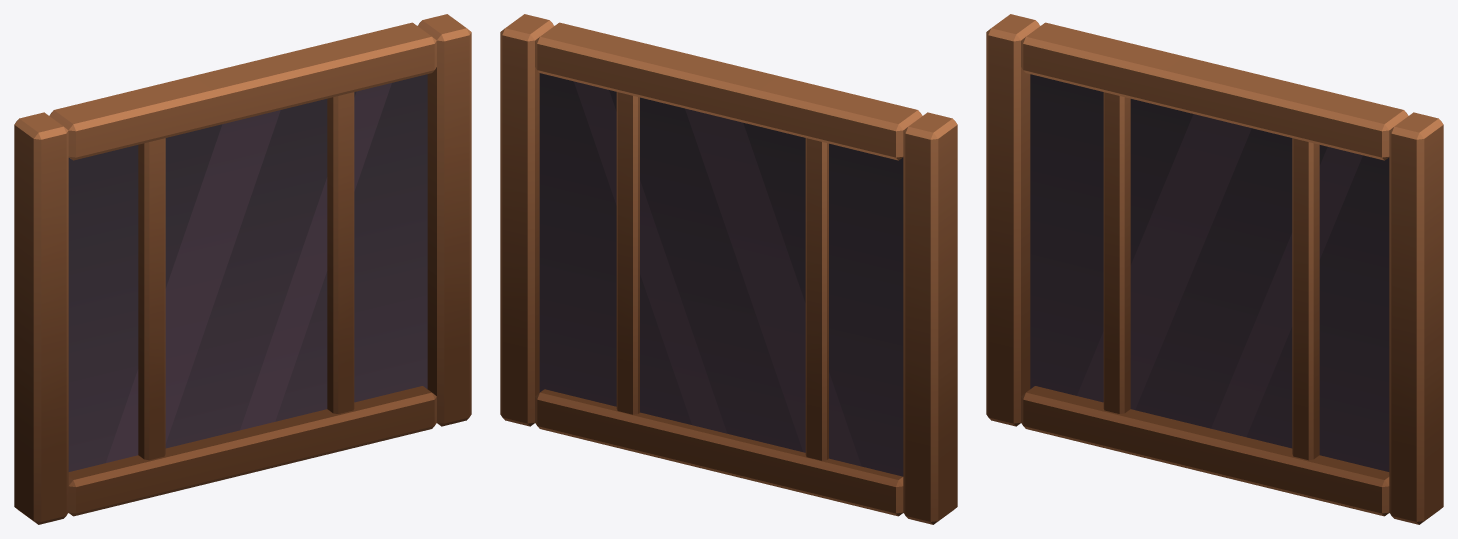
Rendered from sp_build_prop_window_02.fbx.
The picture shows the model from 3 angles, left to right: view 1: azimuth 30°, elevation 25°; view 2: azimuth 150°, elevation 25°; view 3: azimuth 330°, elevation 25°; orthographic projection.
Parts seen in each view (by area): view 1: build_prop_window_02; view 2: build_prop_window_02; view 3: build_prop_window_02.
Part boxes in pixels (bbox=[...]): build_prop_window_02: bbox=[14, 14, 471, 524]; build_prop_window_02: bbox=[500, 14, 957, 524]; build_prop_window_02: bbox=[986, 14, 1443, 524].
Size of the model in its own units: 187 by 160 by 18.52.
